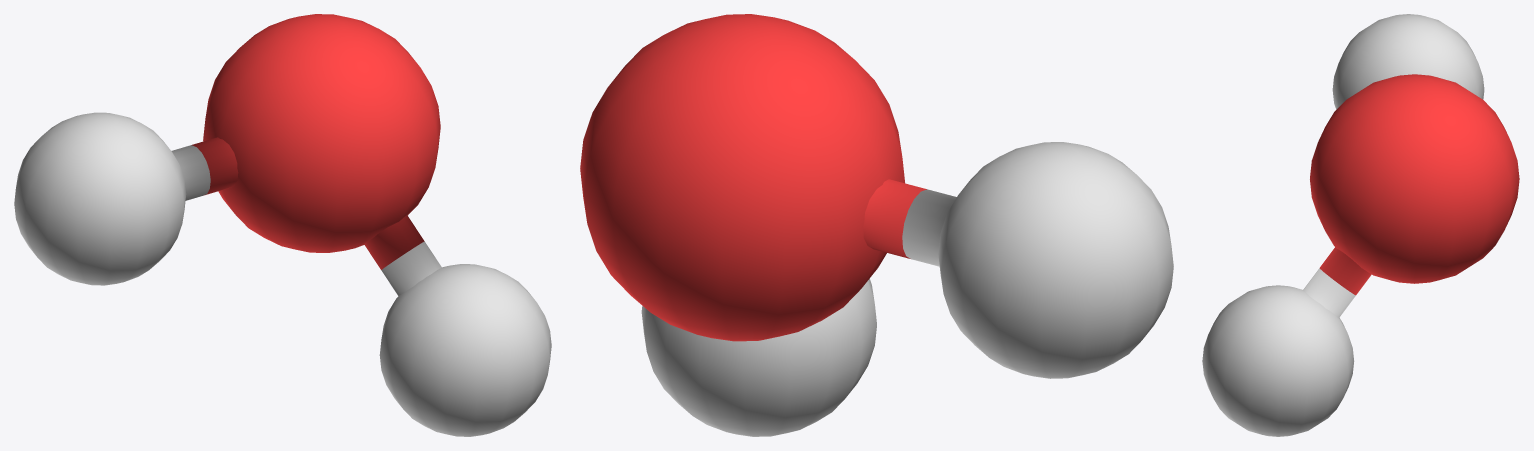
The model's file is agua.glb.
The picture shows the model from 3 angles, left to right: view 1: azimuth 30°, elevation 25°; view 2: azimuth 150°, elevation 25°; view 3: azimuth 270°, elevation 25°; orthographic projection. The views are drawn at different scales.
Parts seen in each view (by area): view 1: Shape_Sphere_4, Shape_Sphere.001_5, Shape_Sphere.002_6, Shape_Cylinder.003_3, Shape_Cylinder.002_2, Shape_Cylinder_0, Shape_Cylinder.001_1; view 2: Shape_Sphere_4, Shape_Sphere.001_5, Shape_Sphere.002_6, Shape_Cylinder_0, Shape_Cylinder.001_1; view 3: Shape_Sphere_4, Shape_Sphere.002_6, Shape_Sphere.001_5, Shape_Cylinder.003_3, Shape_Cylinder.002_2.
Part boxes in pixels (x1,y1,x2,y2): Shape_Sphere_4: (203,14,440,252); Shape_Sphere.001_5: (14,112,186,285); Shape_Sphere.002_6: (379,264,551,436); Shape_Cylinder.003_3: (381,241,441,295); Shape_Cylinder.002_2: (364,215,424,269); Shape_Cylinder_0: (192,137,238,195); Shape_Cylinder.001_1: (171,145,210,200); Shape_Sphere_4: (580,14,904,341); Shape_Sphere.001_5: (938,142,1173,378); Shape_Sphere.002_6: (641,278,876,436); Shape_Cylinder_0: (863,179,926,258); Shape_Cylinder.001_1: (902,189,956,266); Shape_Sphere_4: (1310,74,1519,283); Shape_Sphere.002_6: (1202,285,1354,436); Shape_Sphere.001_5: (1332,14,1484,109); Shape_Cylinder.003_3: (1303,268,1355,317); Shape_Cylinder.002_2: (1320,247,1371,295).
Size of the model in its own units: 1.94 by 1.52 by 1.38.
